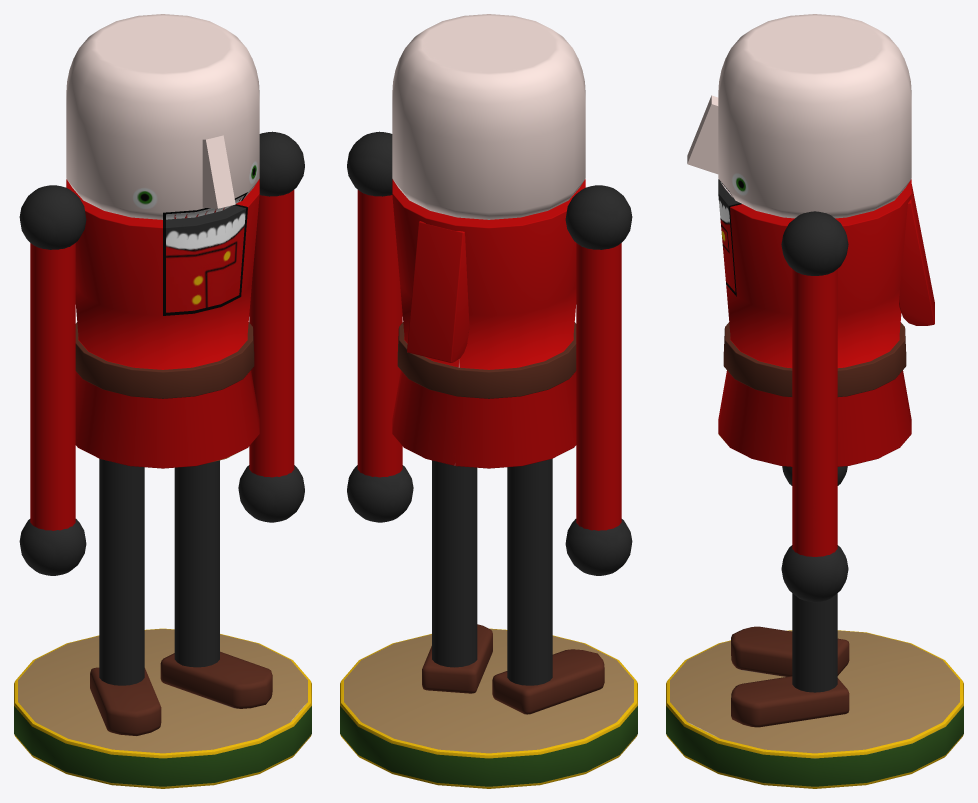
File: NutCracker_Naughty_2.FBX
The picture shows the model from 3 angles, left to right: view 1: azimuth 30°, elevation 25°; view 2: azimuth 150°, elevation 25°; view 3: azimuth 270°, elevation 25°; orthographic projection.
Parts seen in each view (by area): view 1: NutCracker; view 2: NutCracker; view 3: NutCracker.
Part boxes in pixels (x1,y1,x2,y2): NutCracker: (14,14,311,788); NutCracker: (340,14,637,788); NutCracker: (666,14,963,788).
Size of the model in its own units: 4.18 by 9.84 by 3.89.
